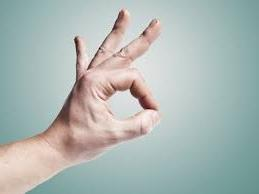Okay: (47, 7, 163, 162)
